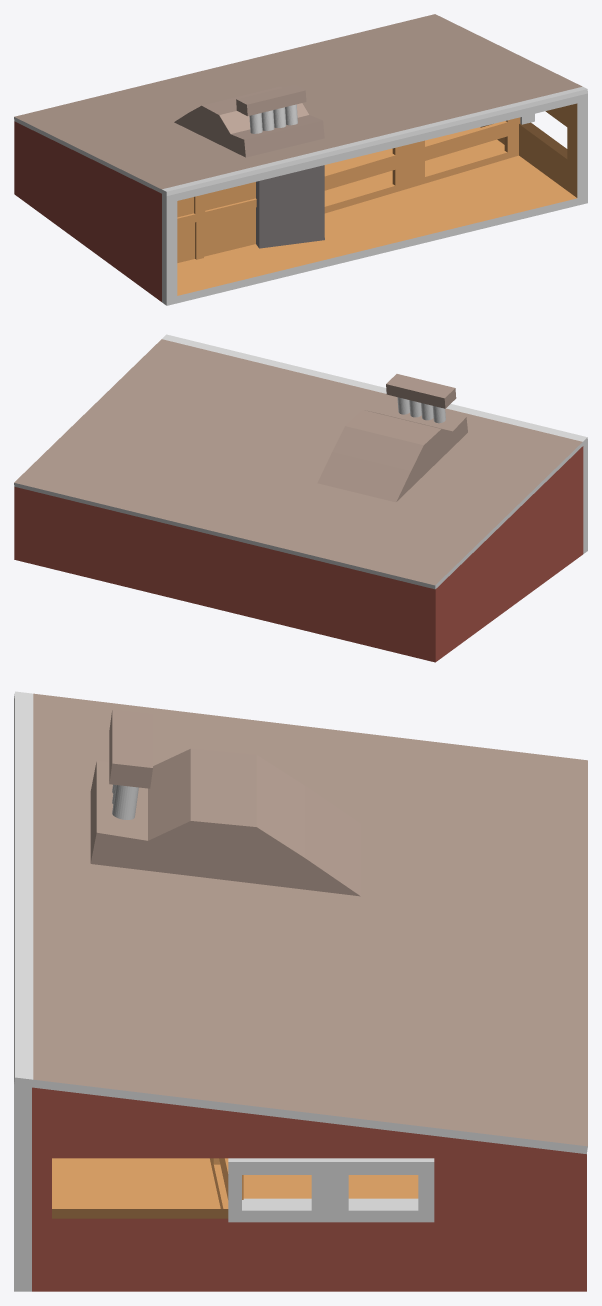
The model's file is BoxHouse.glb.
3 renders of one model, top to bottom at view 1: azimuth 30°, elevation 25°; view 2: azimuth 150°, elevation 25°; view 3: azimuth 270°, elevation 25°, orthographic. The views are drawn at different scales.
Parts seen in each view (by area): view 1: Cube.004; view 2: Cube.004; view 3: Cube.004.
Part boxes in pixels (x1,y1,x2,y2): Cube.004: (14, 14, 587, 305); Cube.004: (14, 334, 587, 662); Cube.004: (14, 691, 587, 1291).
Bounding box in the file's own units: 27.81 × 9.75 × 17.31.
